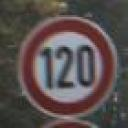speed_limit_120: (11, 11, 117, 117)
